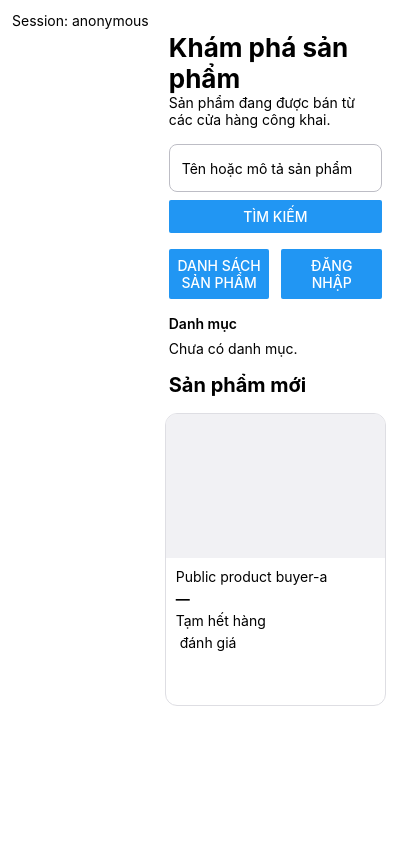
Test: B01/B02: login, real client product request, logout removes session and old screen state
Expected: the text "Public product buyer-a" is shown, top-left (176, 568), bottom-right (327, 585)
Click the button "Đăng nhập" at (332, 274), box top-left (281, 249), bottom-right (382, 299)
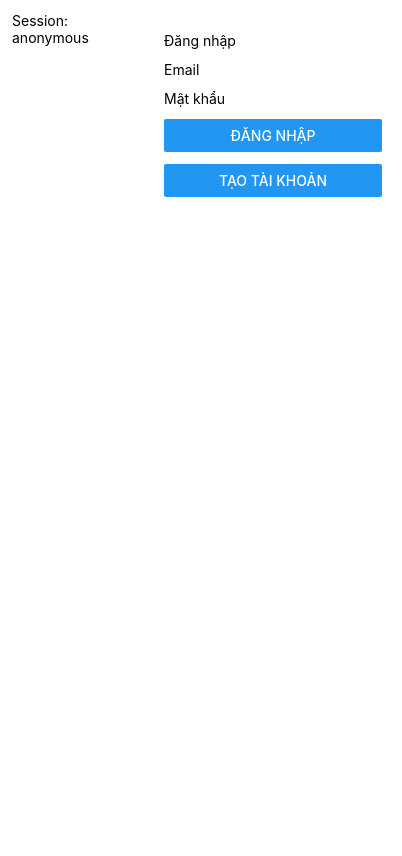
Type "first@example.test" into the field with placeholder "Email" at (273, 70), box top-left (164, 61), bottom-right (382, 78)
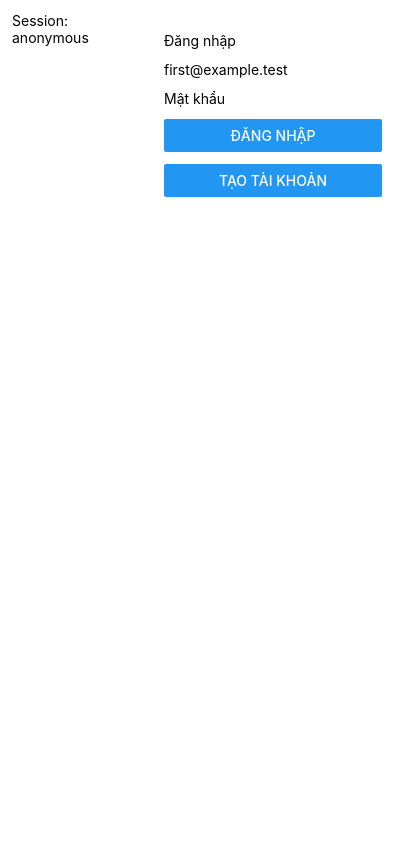
Type "fixture-password" into the password field with placeholder "Mật khẩu" at (273, 98), box top-left (164, 90), bottom-right (382, 107)
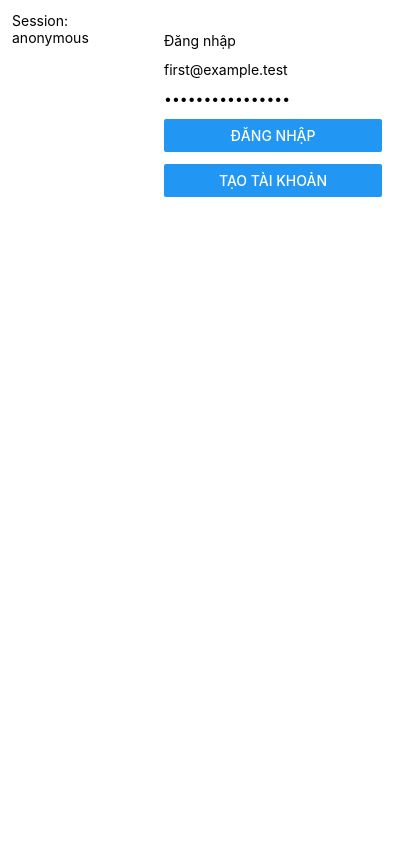
Click the button "Đăng nhập" at (273, 136), box top-left (164, 119), bottom-right (382, 152)
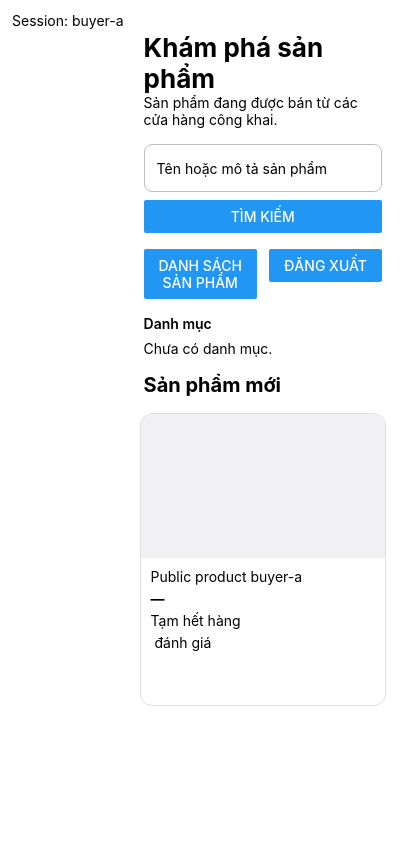
Now the button "Đăng xuất" is shown
Now the text "Session: buyer-a" is shown, box top-left (12, 12), bottom-right (124, 29)
Click the button "Đăng xuất" at (325, 266), box top-left (269, 249), bottom-right (382, 282)
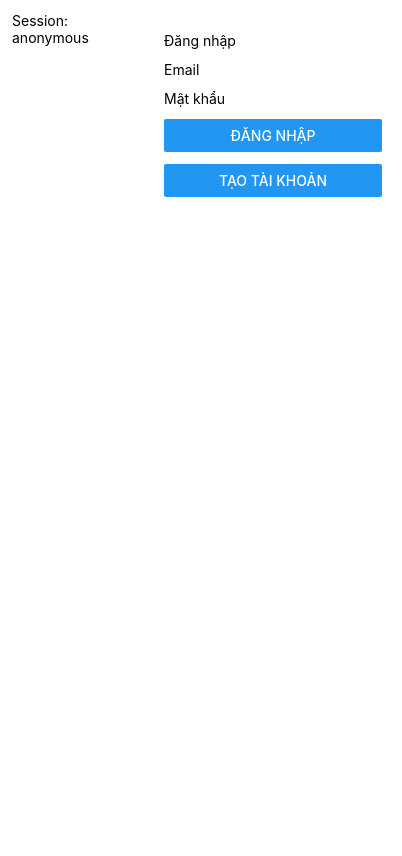
Now the field with placeholder "Email" is shown, box top-left (164, 61), bottom-right (382, 78)
Now the text "Session: anonymous" is shown, box top-left (12, 12), bottom-right (89, 46)
Now the button "Public product buyer-a" is gone
